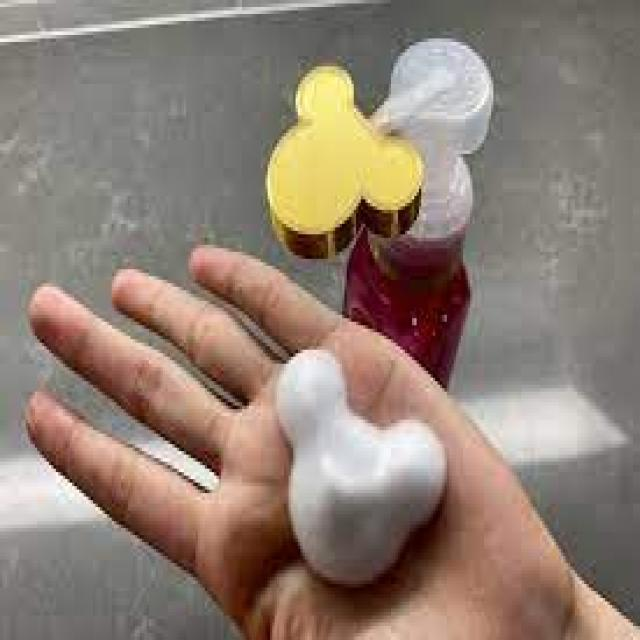liquid soap: (270, 35, 499, 400)
